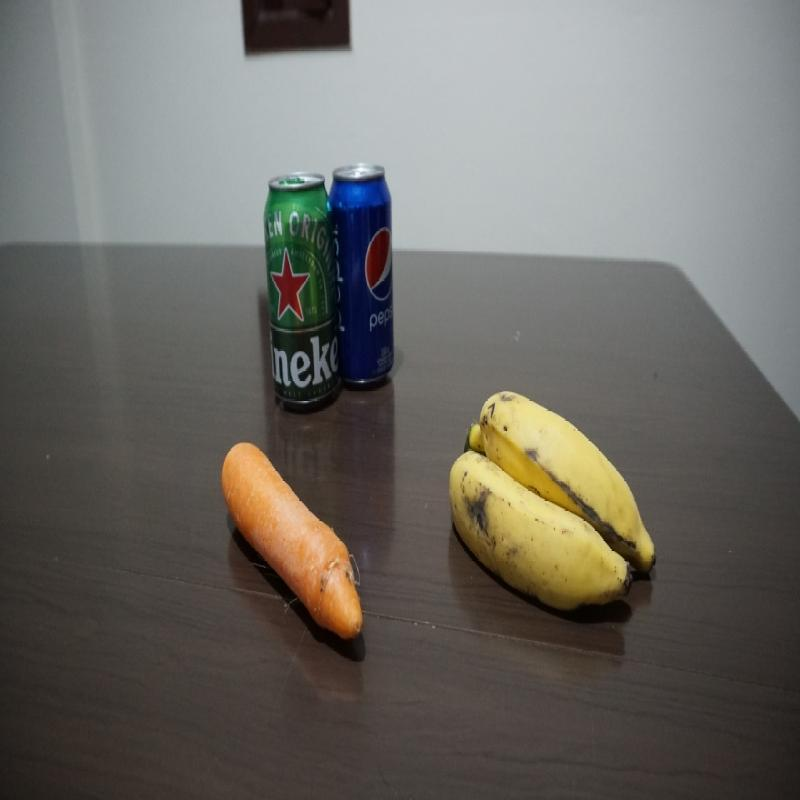Banana: (449, 393, 657, 616)
Beer can: (265, 170, 340, 410)
Carrot: (222, 441, 365, 643)
Soda can: (330, 163, 395, 384)
